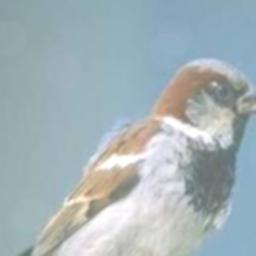Sparrow: (0, 57, 256, 256)
